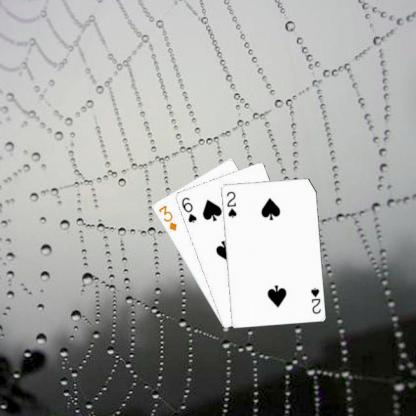2S: (223, 188, 238, 219), (308, 284, 322, 315)
3D: (155, 202, 178, 232)
6S: (179, 194, 198, 224)
